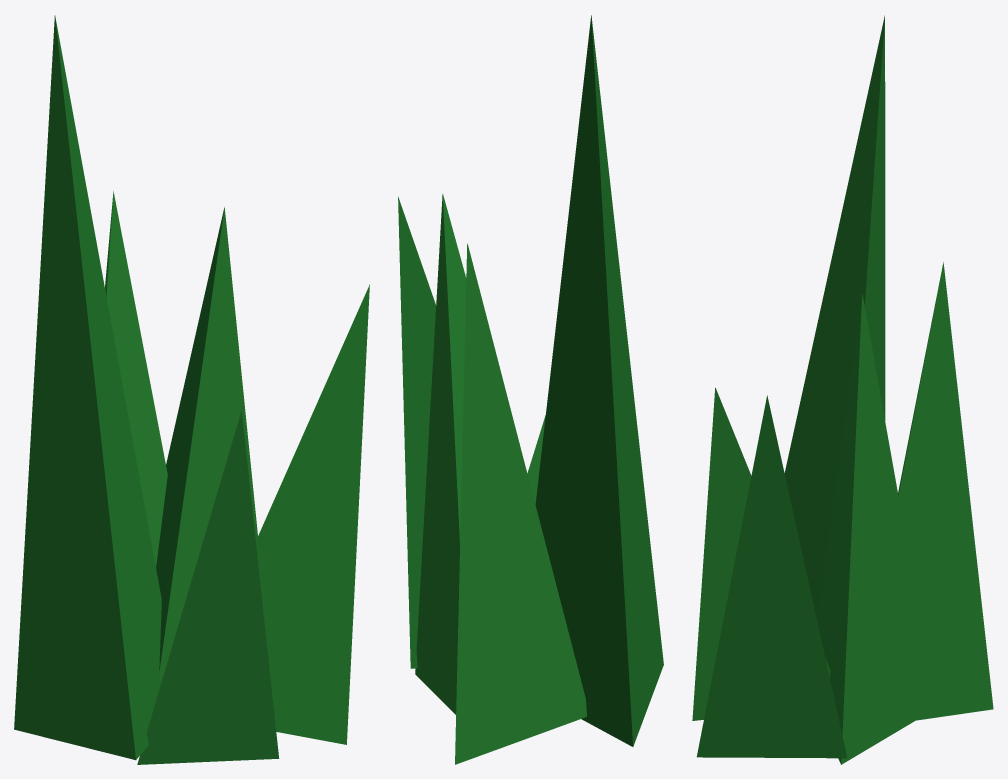
Rendered from GrassMedium.fbx.
The picture shows the model from 3 angles, left to right: view 1: azimuth 30°, elevation 25°; view 2: azimuth 150°, elevation 25°; view 3: azimuth 270°, elevation 25°; orthographic projection. The views are drawn at different scales.
Parts seen in each view (by area): view 1: Prism017; view 2: Prism017; view 3: Prism017.
Part boxes in pixels (left/top/right/bottom): Prism017: left=14, top=15, right=369, bottom=764; Prism017: left=398, top=15, right=663, bottom=764; Prism017: left=692, top=15, right=993, bottom=764.
Size of the model in its own units: 9.57 by 9.15 by 22.33.
